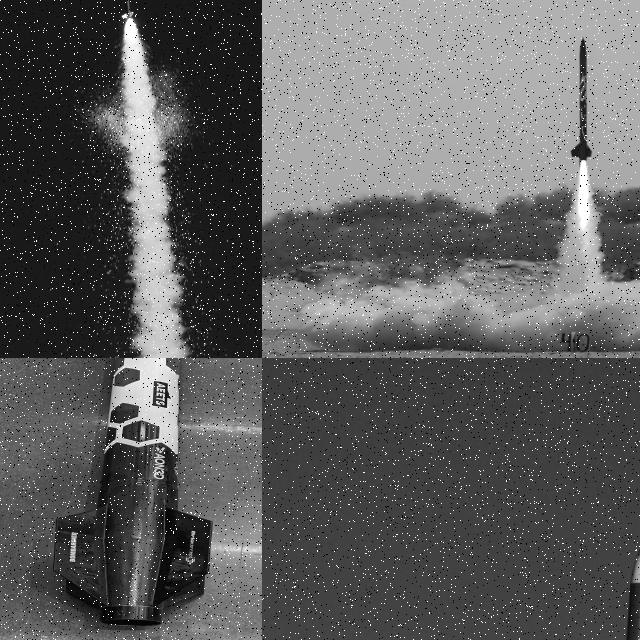Rocket: (52, 358, 213, 627), (594, 540, 640, 640), (571, 36, 592, 163), (121, 0, 134, 19)
